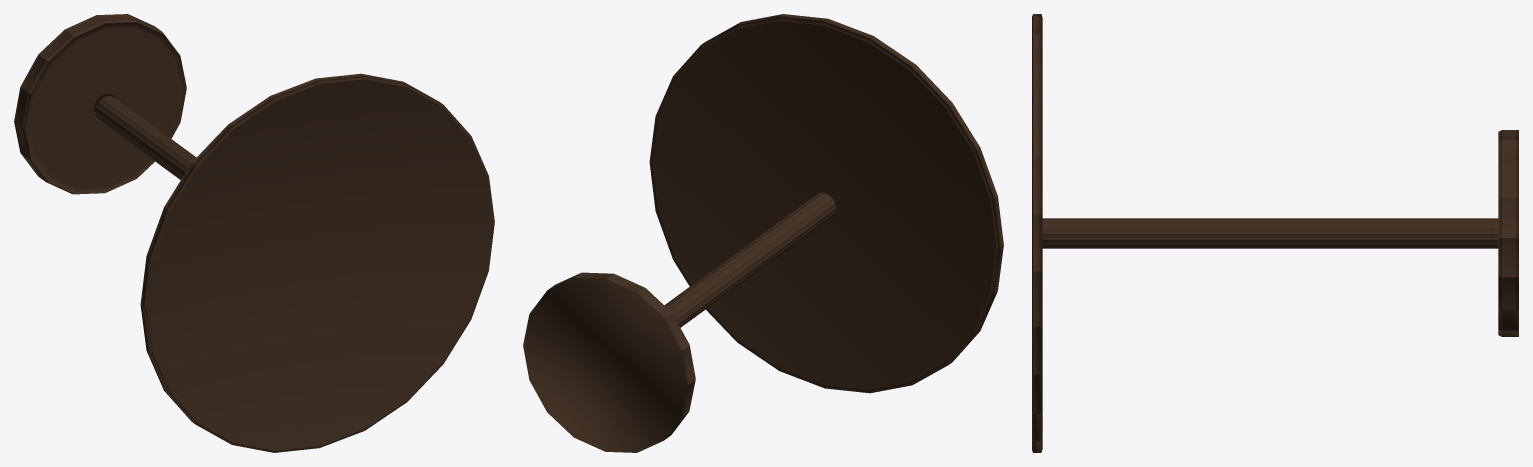
The model's file is MeshDiningTable_009_0.obj.
The picture shows the model from 3 angles, left to right: view 1: azimuth 30°, elevation 25°; view 2: azimuth 150°, elevation 25°; view 3: azimuth 270°, elevation 25°; orthographic projection. The views are drawn at different scales.
Parts seen in each view (by area): view 1: DiningTable_009; view 2: DiningTable_009; view 3: DiningTable_009.
Part boxes in pixels (x1=…): DiningTable_009: x1=14, y1=14, x2=494, y2=452; DiningTable_009: x1=523, y1=14, x2=1003, y2=452; DiningTable_009: x1=1032, y1=14, x2=1518, y2=452.
Size of the model in its own units: 0.6955 by 0.6955 by 0.7685.
